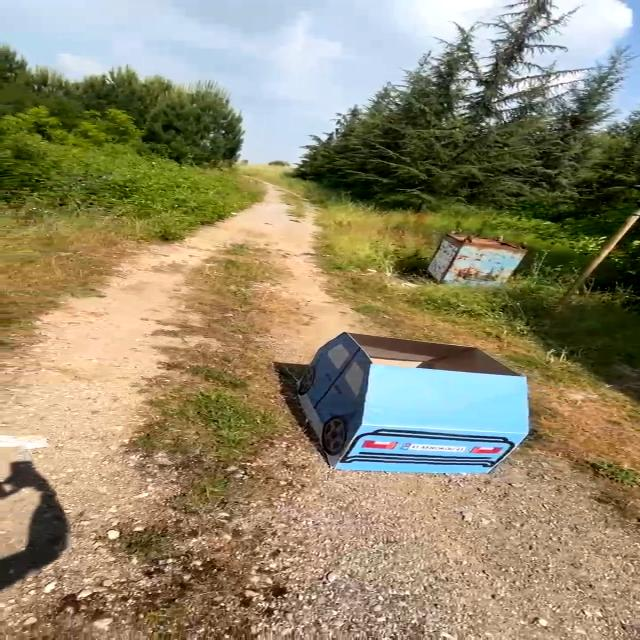blue_car: (283, 324, 552, 499)
